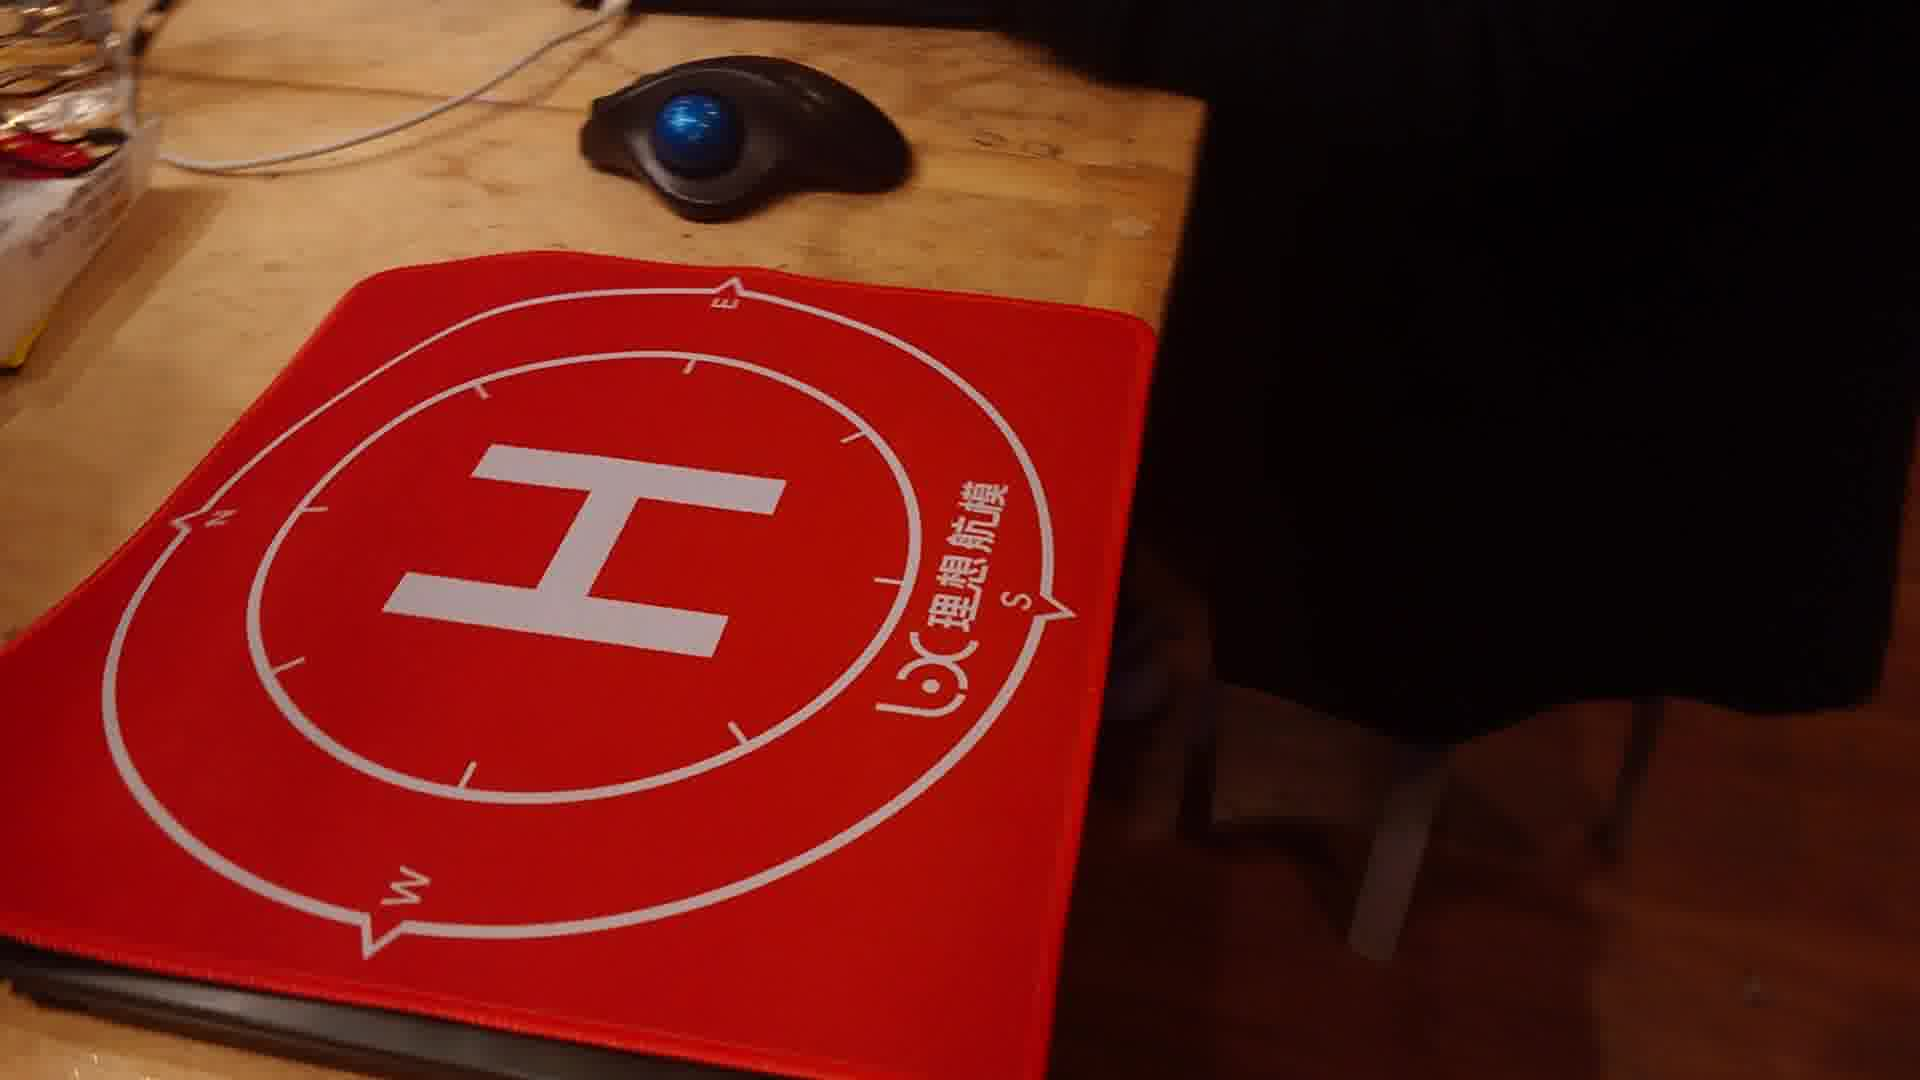H: (385, 444, 787, 659)
